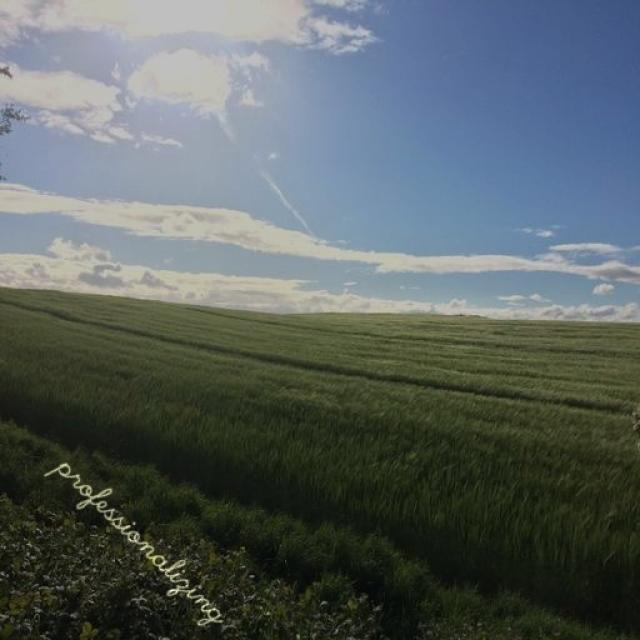watermark: (48, 444, 241, 632)
